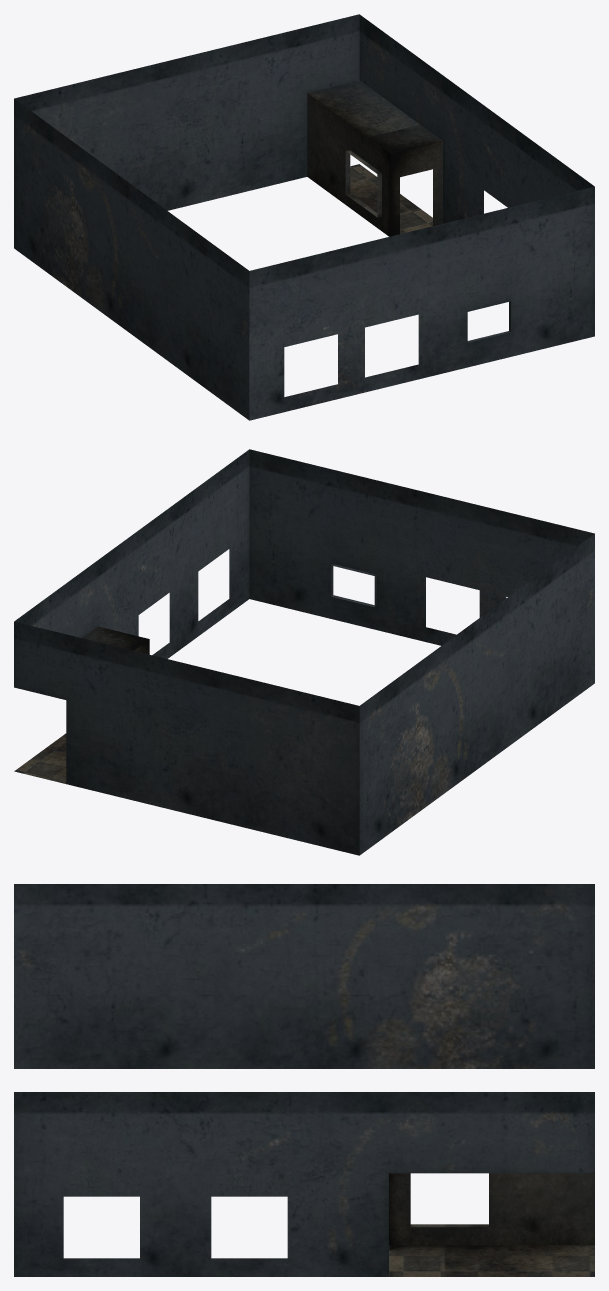
The model's file is RoofWalls.FBX.
3 renders of one model, top to bottom at view 1: azimuth 30°, elevation 25°; view 2: azimuth 150°, elevation 25°; view 3: azimuth 270°, elevation 25°, orthographic. The views are drawn at different scales.
Parts seen in each view (by area): view 1: RoofWalls; view 2: RoofWalls; view 3: RoofWalls.
Part boxes in pixels (x1=…): RoofWalls: x1=14, y1=14, x2=594, y2=420; RoofWalls: x1=14, y1=449, x2=594, y2=855; RoofWalls: x1=14, y1=884, x2=594, y2=1276.
Bounding box in the file's own units: 1688 × 699 × 1992.
